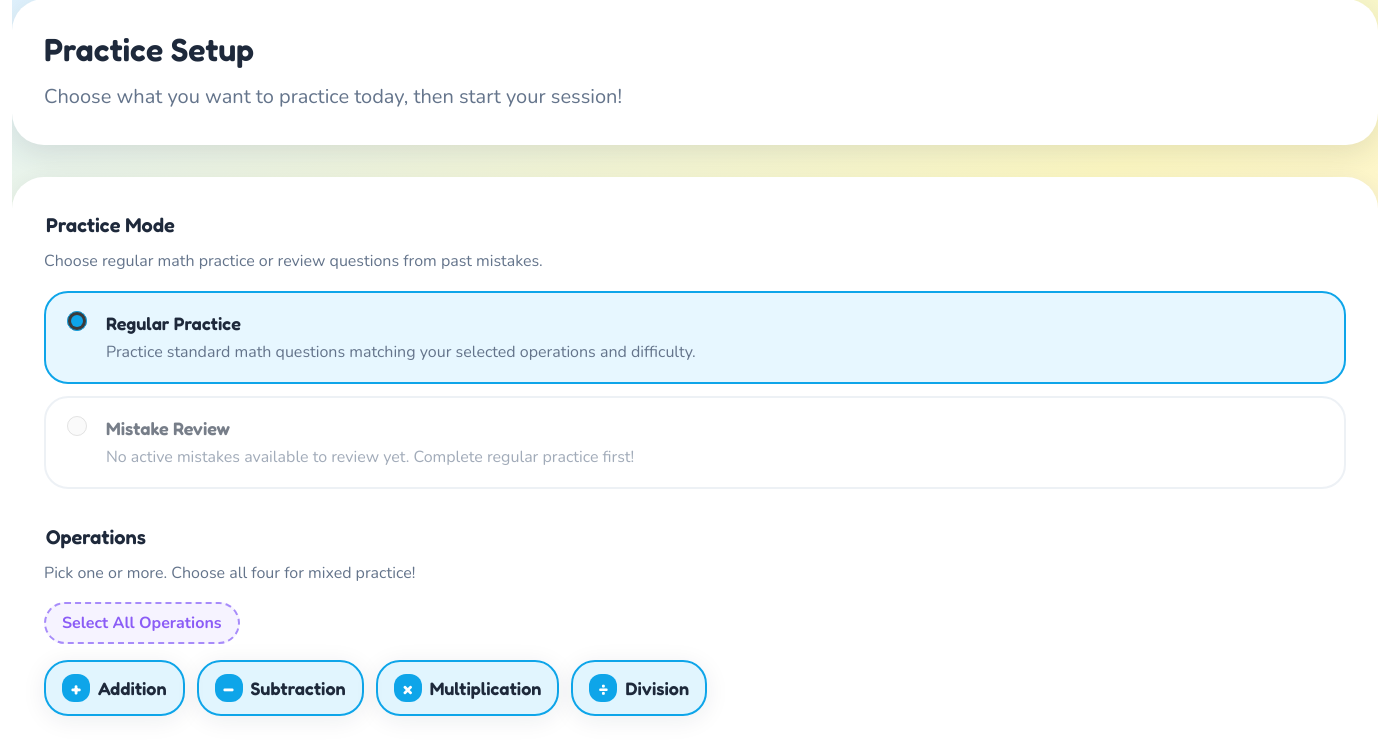
Scenario: Practice session flow › passes setup configuration to the practice session page
This screenshot has width=1390, height=753.
Click the button "+ Addition": (114, 688) [44,660,184,716]
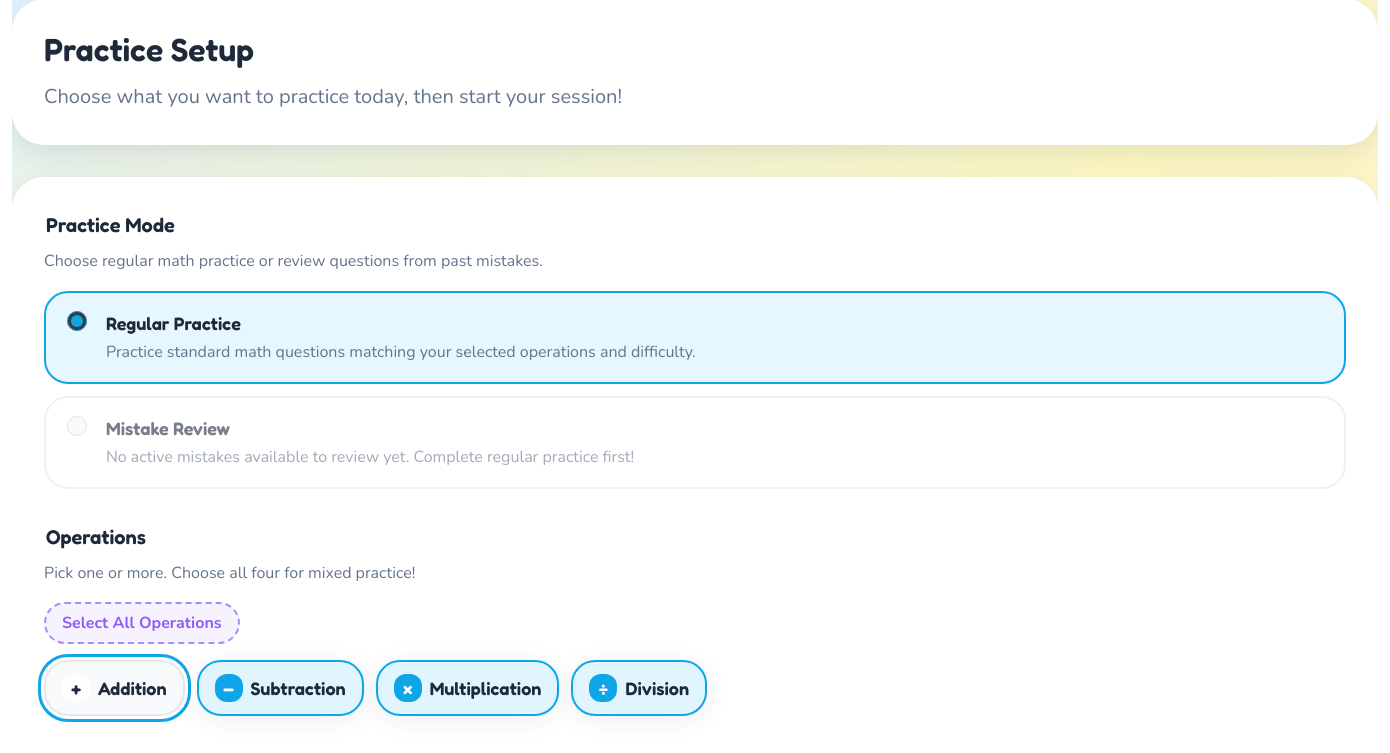
Click the button "− Subtraction": (280, 688) [196,660,364,716]
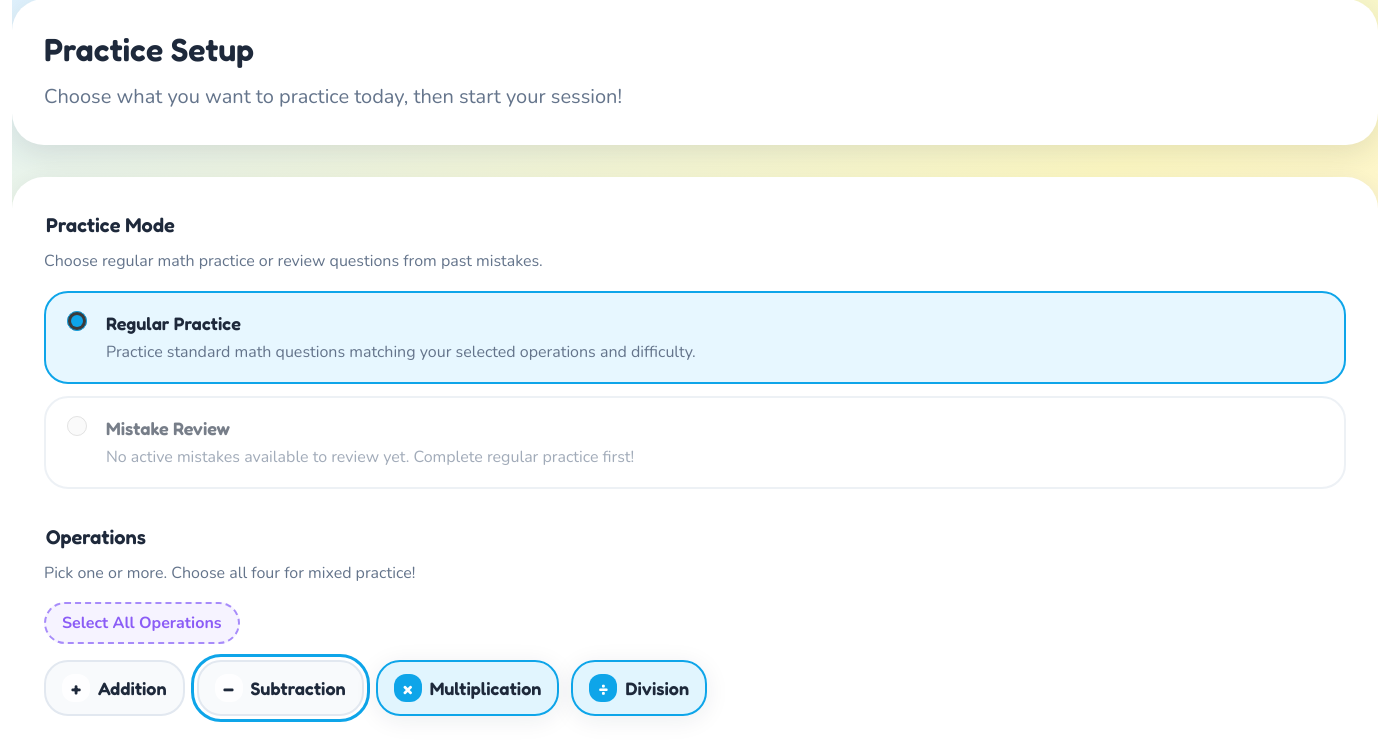
Click the button "÷ Division": (639, 688) [571,660,707,716]
(page scrolled)
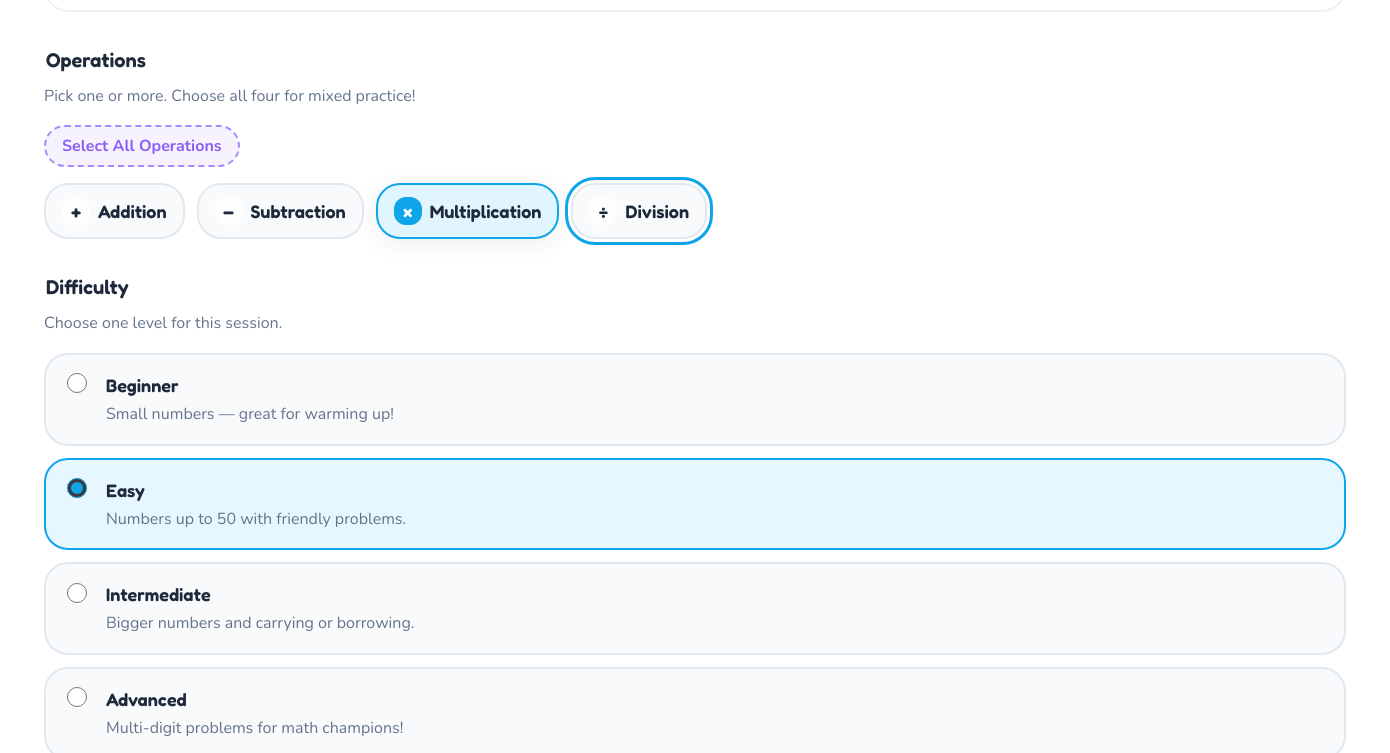
Click the radio button labelled "Beginner Small numbers — great for warming up!": (77, 383) [67,373,87,393]
(page scrolled)
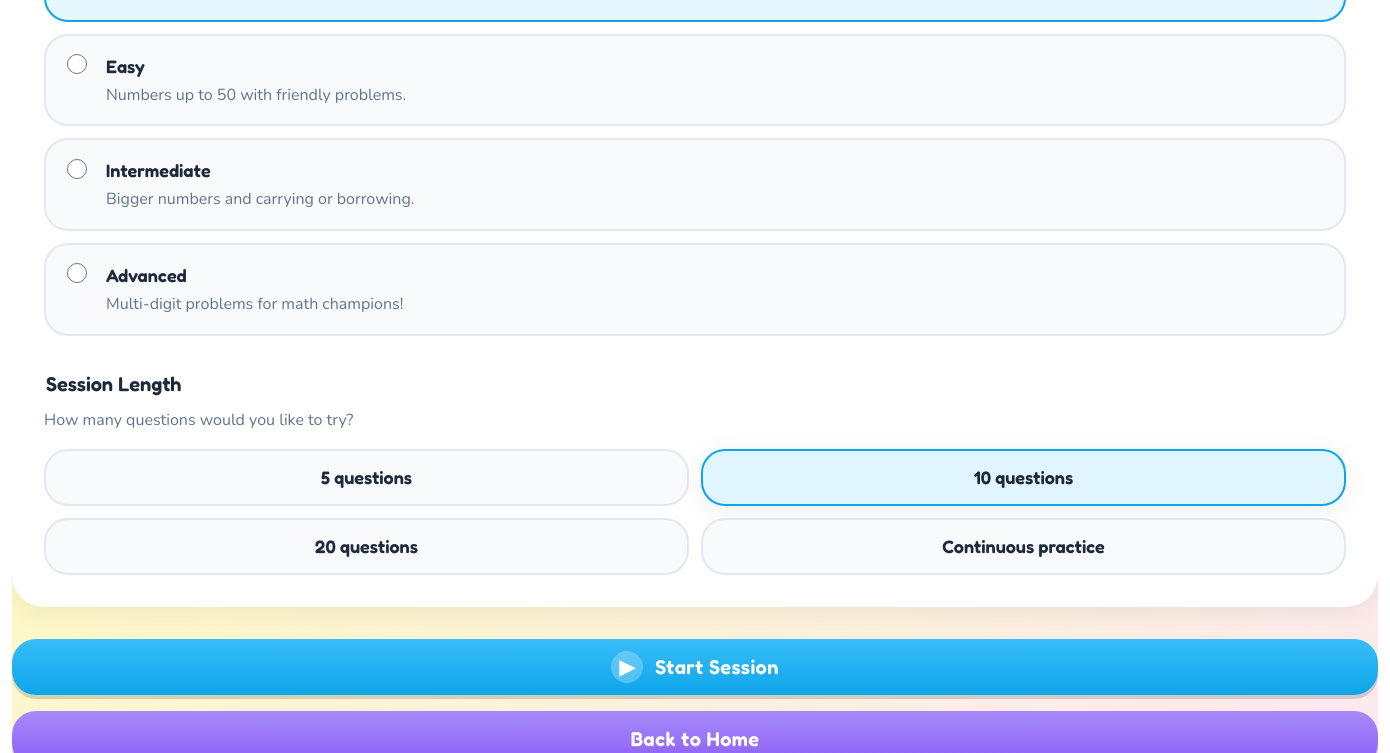
Click the radio button labelled "5 questions": (366, 478) [44,450,689,506]
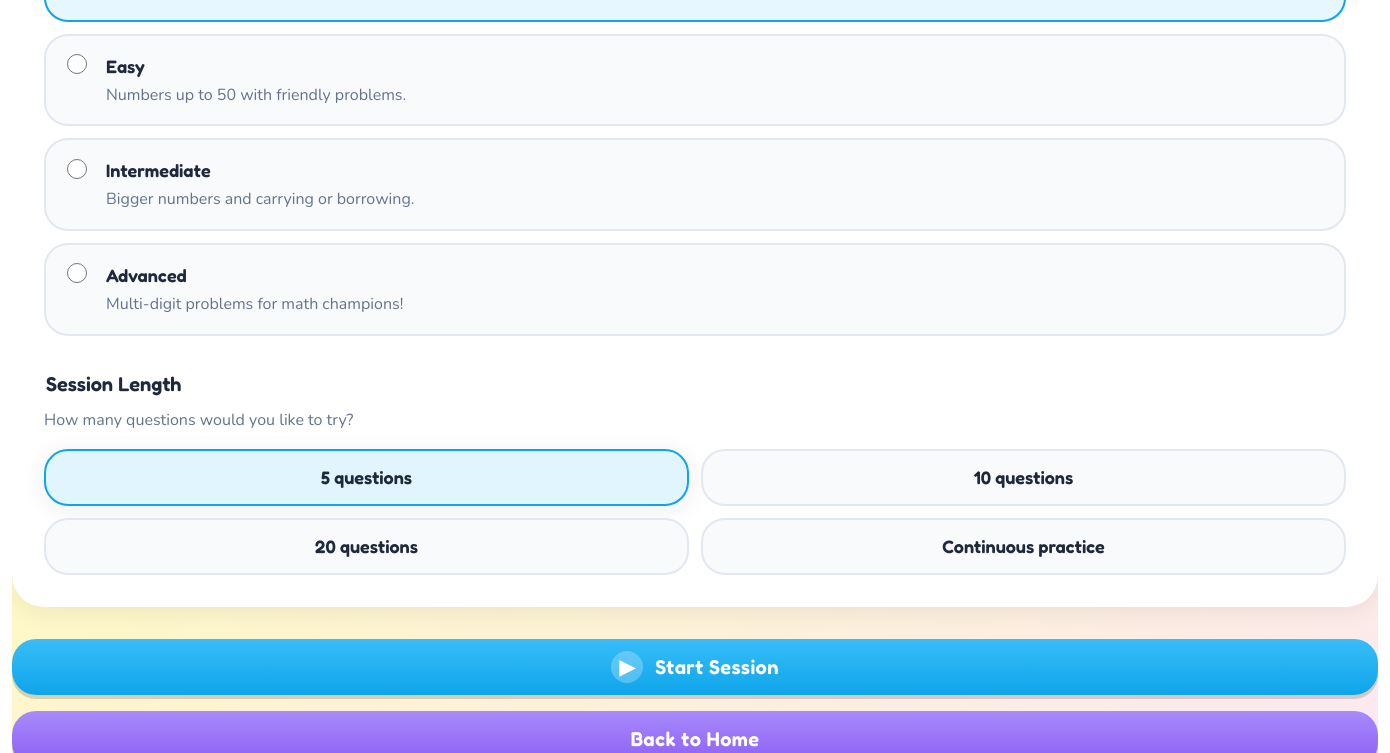
Click the button "▶ Start Session": (695, 667) [12,639,1378,695]
(page scrolled)
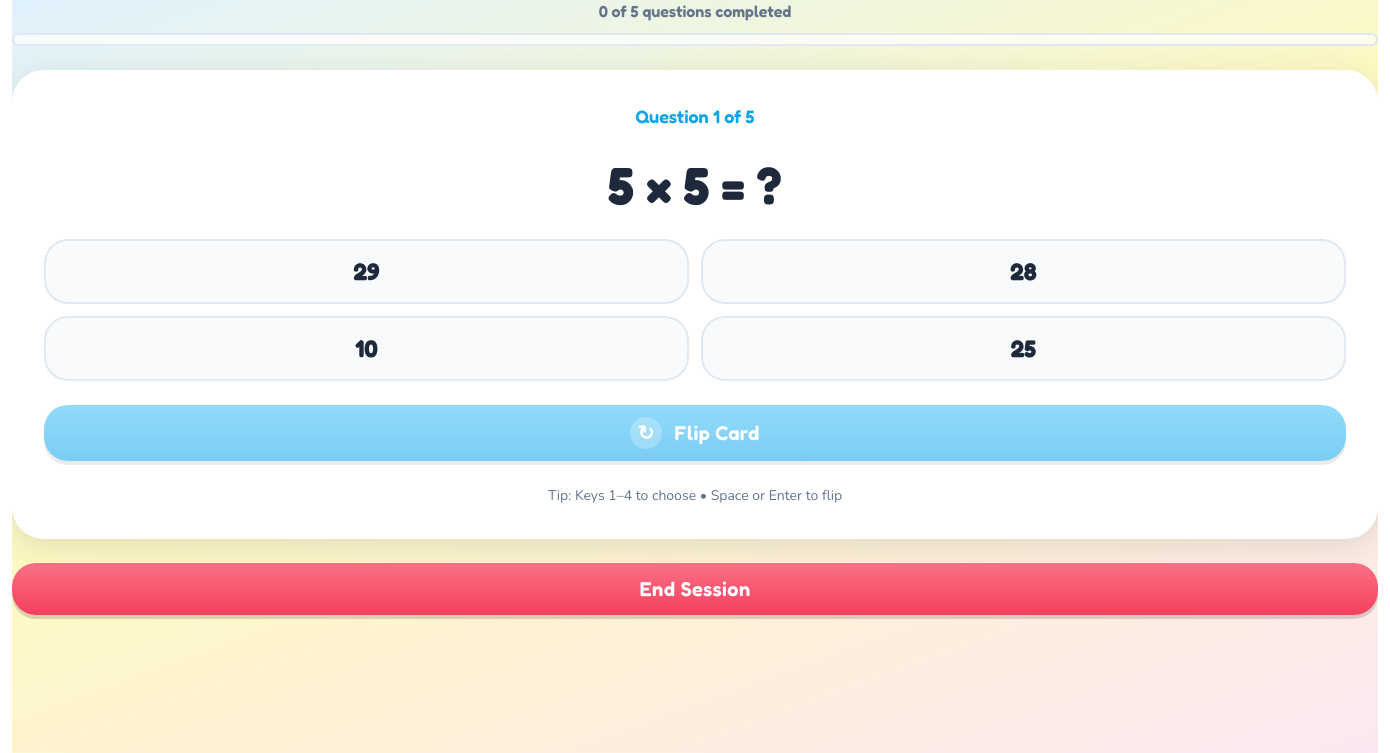
Result: the button "↻ Flip Card" is shown at [44,405,1346,461]
